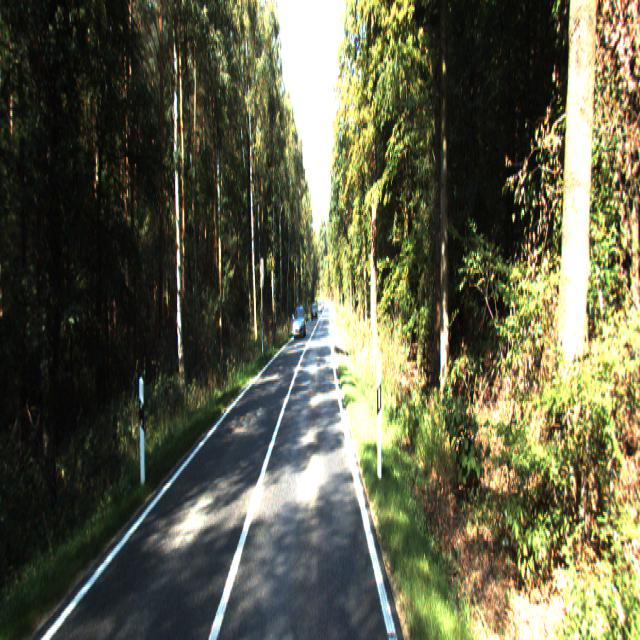Car: (293, 306, 306, 340)
